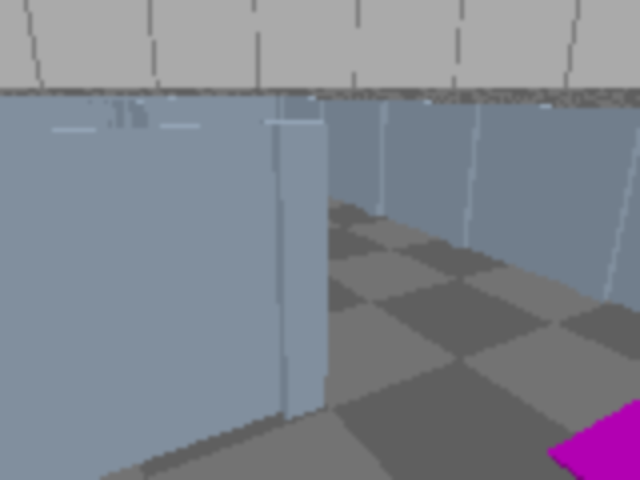goal_zone: (546, 379, 638, 478)
